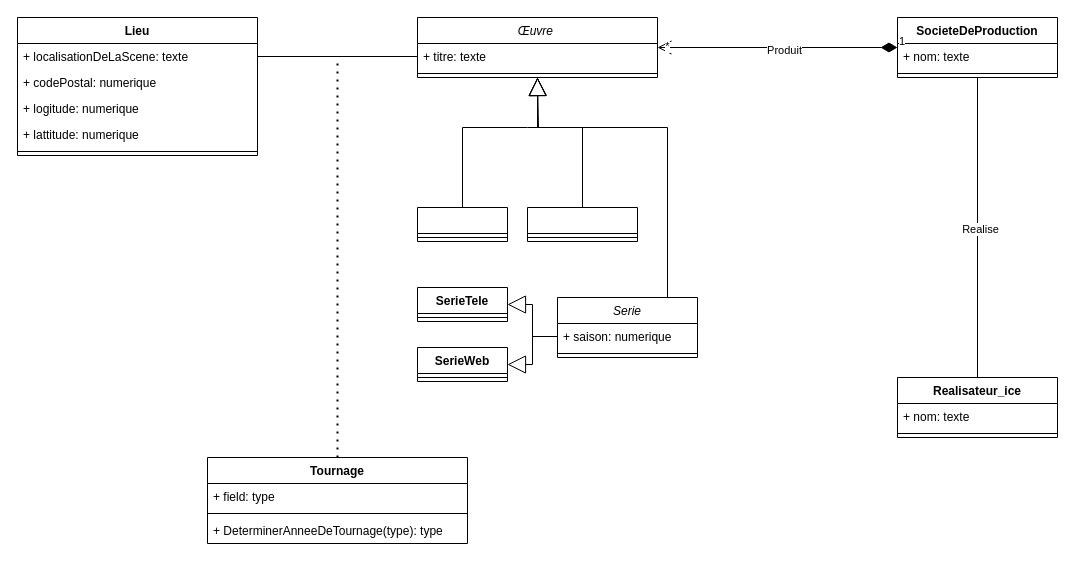
The diagram is 1075 pixels wide and 564 high, and some of its shapes have lost their labels. Here are the shapes that lost their labels. From the top down, the centre of each, then its label:
At point (462, 224): "TeleFilm".
At point (582, 224): "LongMetrage".
